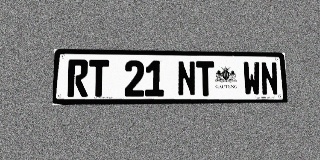1: (145, 60, 164, 96)
2: (125, 60, 144, 97)
N: (177, 61, 196, 96), (260, 62, 279, 96)
R: (67, 59, 88, 97)
T: (88, 60, 109, 97), (196, 61, 215, 96)
W: (243, 61, 261, 96)
